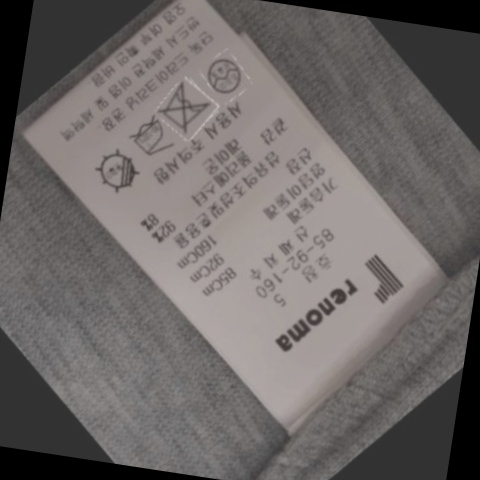DN_wash: (158, 83, 216, 134)
dry_clean_petrol_only: (204, 52, 249, 97)
iron_low: (125, 116, 176, 162)
line_dry_in_shade: (93, 149, 149, 196)
